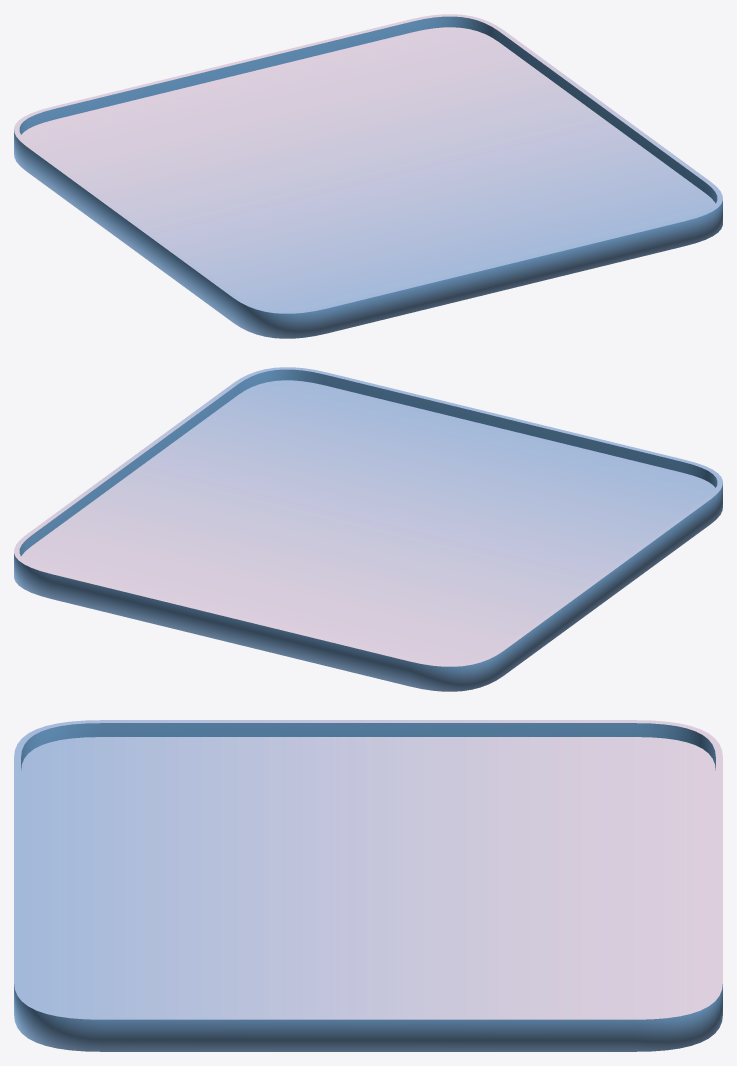
File: SquarePlate.gltf
3 views of the same model, one above another, from view 1: azimuth 30°, elevation 25°; view 2: azimuth 150°, elevation 25°; view 3: azimuth 270°, elevation 25° (orthographic). The views are drawn at different scales.
Visible parts, largest first — view 1: win001; view 2: win001; view 3: win001.
Boxes of the visible parts, bbox=[...] form: win001: bbox=[14, 14, 722, 338]; win001: bbox=[14, 367, 722, 691]; win001: bbox=[14, 720, 722, 1051].
Size of the model in its own units: 100 by 5 by 100.
1 material, 1 textured.
